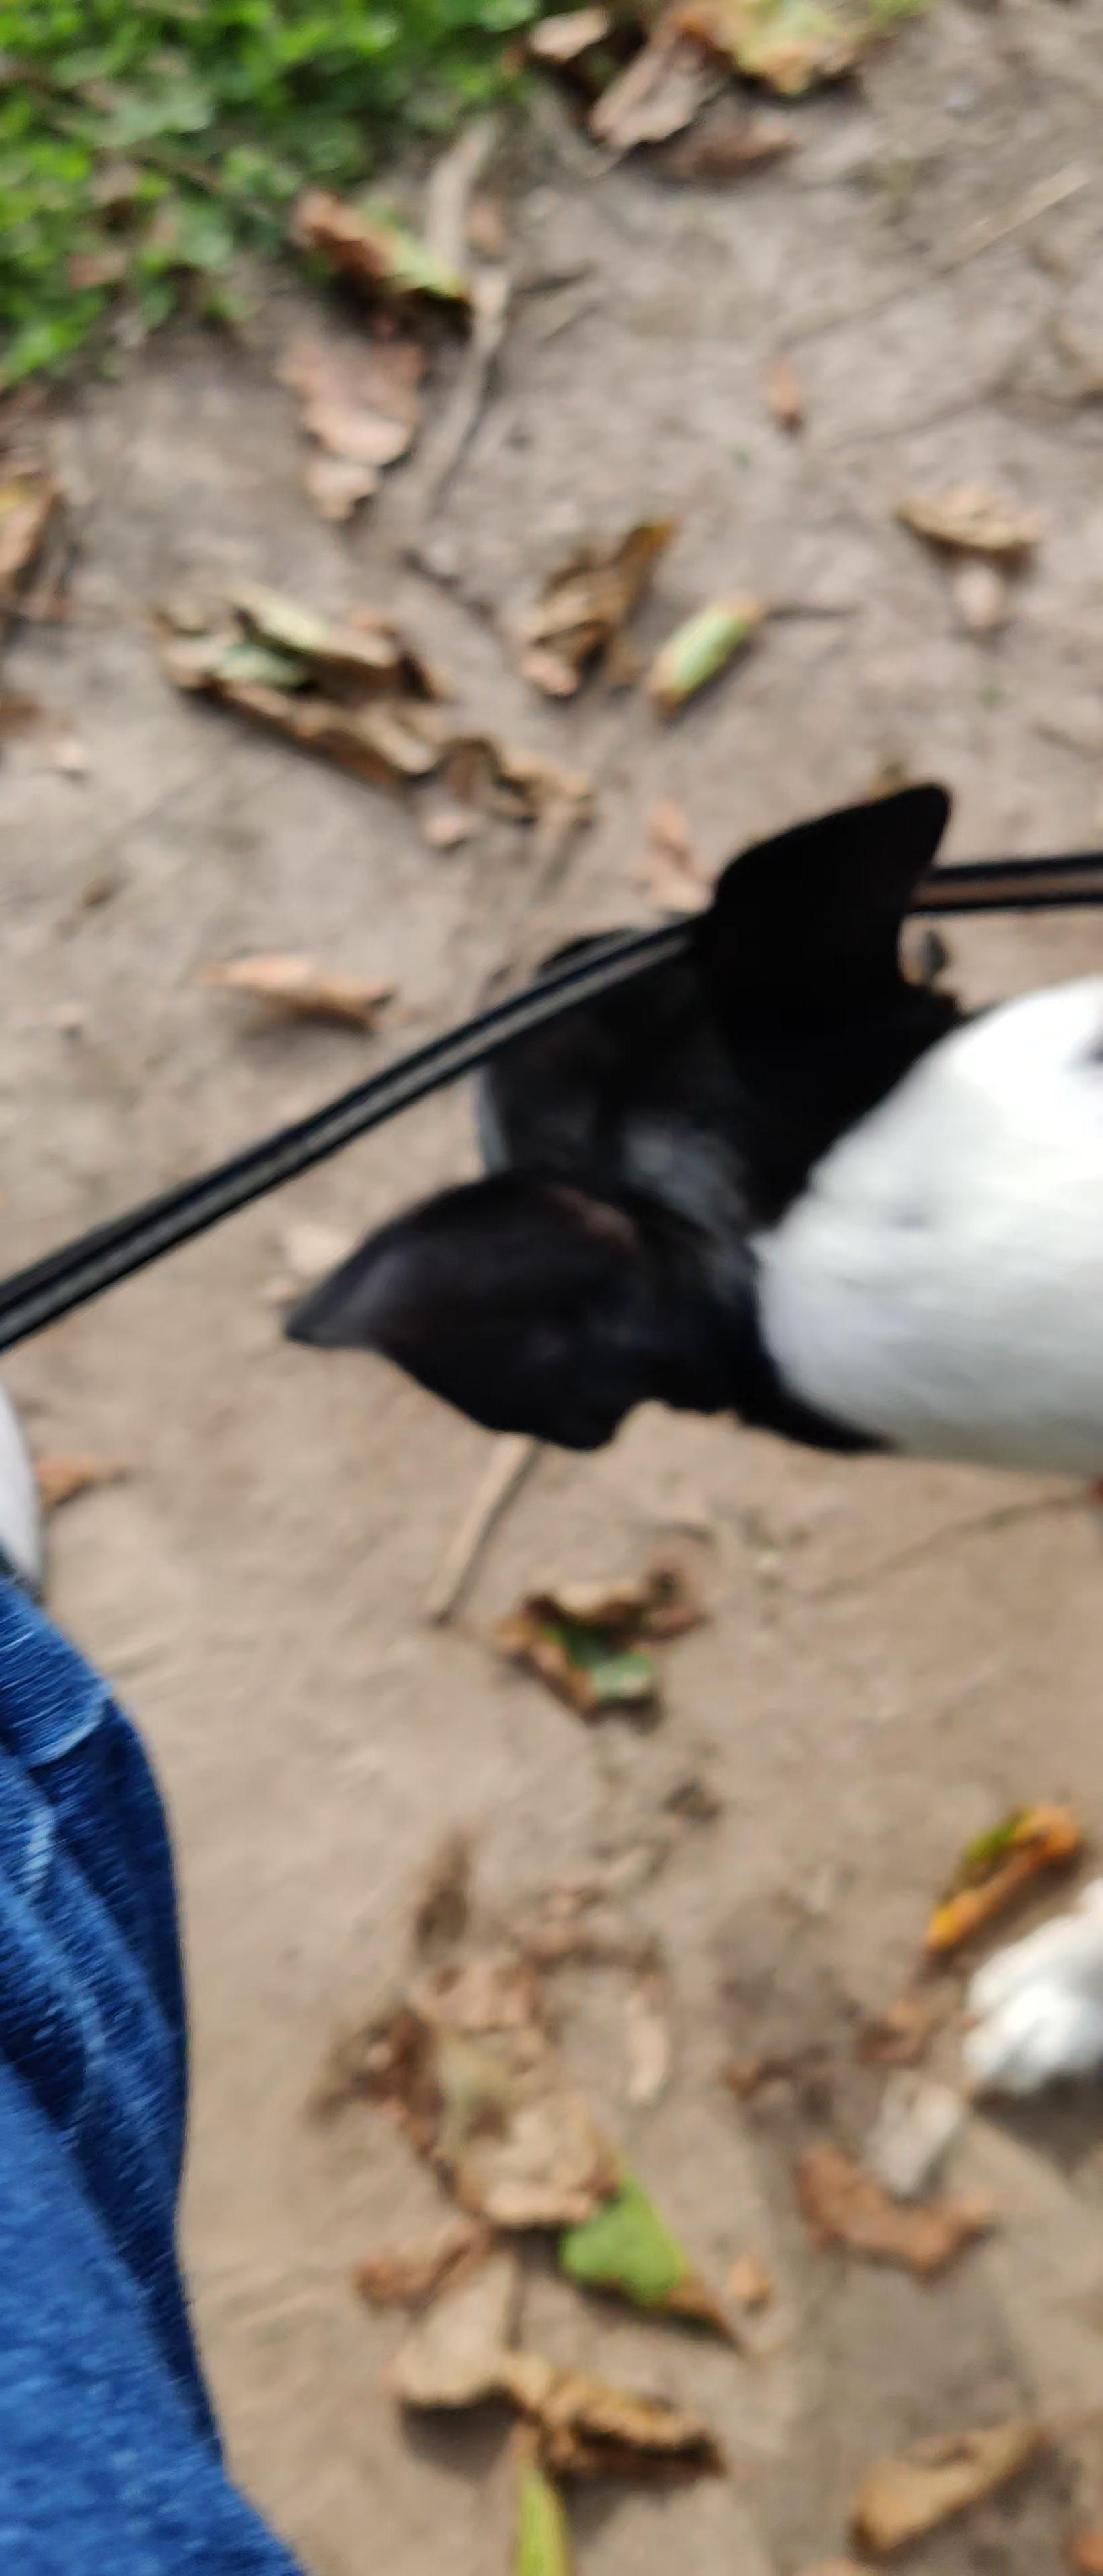Dog: (255, 769, 1103, 2118)
